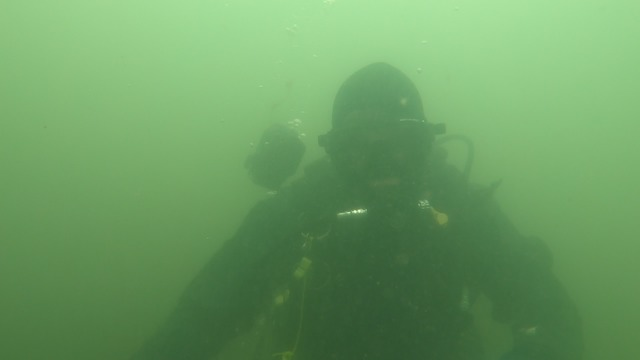Head: (313, 58, 465, 250)
